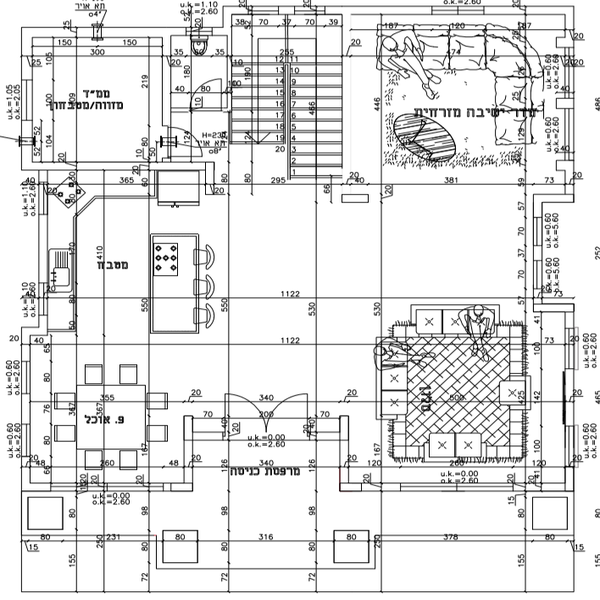door: (220, 385, 314, 447), (157, 120, 207, 163), (188, 71, 227, 113)
room: (328, 296, 588, 493), (347, 5, 585, 211), (17, 318, 206, 499), (16, 19, 167, 181)
wall: (21, 24, 182, 40), (334, 414, 355, 494), (335, 3, 426, 21), (177, 414, 199, 484), (340, 478, 400, 497), (531, 187, 574, 210), (497, 4, 571, 17)
window: (16, 75, 40, 125), (563, 328, 584, 373), (16, 416, 34, 461), (33, 177, 53, 216), (561, 106, 575, 161), (562, 425, 581, 464), (294, 1, 327, 22), (428, 4, 490, 15), (15, 357, 32, 397), (35, 280, 52, 319), (250, 2, 281, 19), (529, 260, 546, 289), (528, 216, 545, 244), (567, 50, 574, 94)
